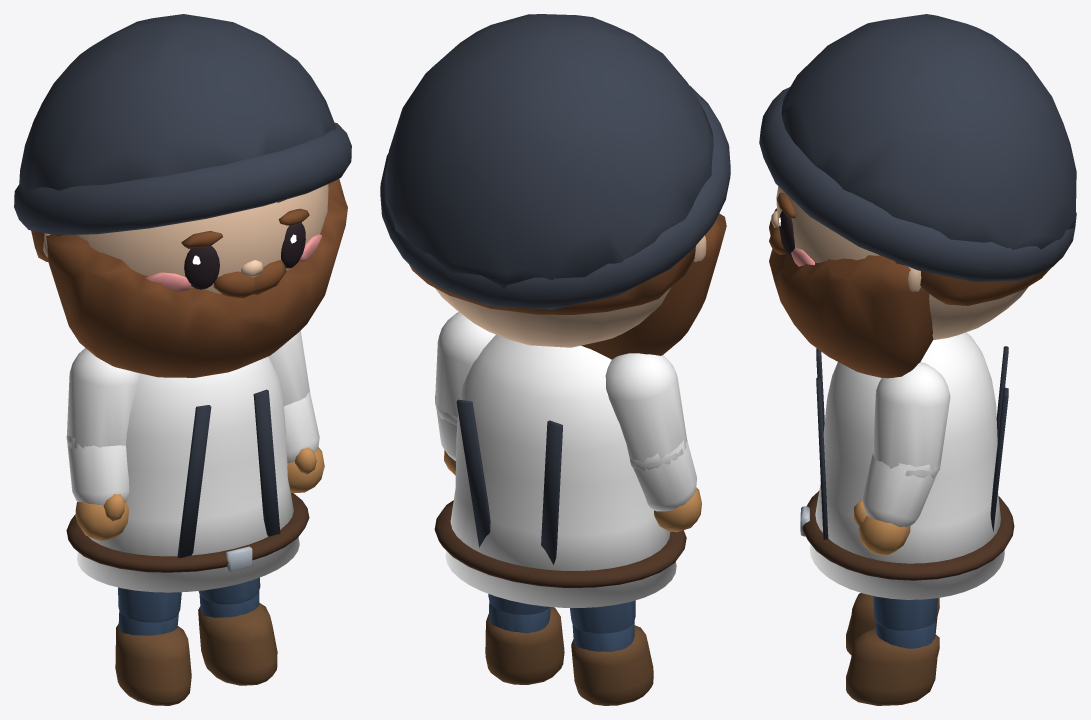
Rendered from lumberjack.glb.
3 views of the same model, side by side, from view 1: azimuth 30°, elevation 25°; view 2: azimuth 150°, elevation 25°; view 3: azimuth 270°, elevation 25° (orthographic). The views are drawn at different scales.
Parts seen in each view (by area): view 1: head_body, spine_body, knee_R_body, knee_L_body, uarm_R, farm_R, head_face_normal+face_smile, uarm_L, hand_R_body, thigh_R, farm_L, hand_L_body (+1 smaller); view 2: head_body, spine_body, uarm_R, knee_R_body, knee_L_body, uarm_L, farm_R, thigh_R, hand_R_body, farm_L, thigh_L; view 3: head_body, spine_body, uarm_L, knee_L_body, farm_L, thigh_L, hand_L_body, knee_R_body, head_face_normal+face_smile.
Boxes of the visible parts, bbox=[...] form: head_body: bbox=[14, 14, 351, 377]; spine_body: bbox=[66, 356, 309, 592]; knee_R_body: bbox=[115, 611, 191, 705]; knee_L_body: bbox=[198, 591, 277, 685]; uarm_R: bbox=[66, 348, 139, 448]; farm_R: bbox=[66, 435, 129, 505]; head_face_normal+face_smile: bbox=[184, 222, 305, 289]; uarm_L: bbox=[268, 331, 309, 406]; hand_R_body: bbox=[75, 494, 128, 540]; thigh_R: bbox=[118, 587, 181, 622]; farm_L: bbox=[284, 392, 319, 462]; hand_L_body: bbox=[287, 447, 324, 492]; head_body: bbox=[380, 14, 730, 359]; spine_body: bbox=[434, 334, 686, 607]; uarm_R: bbox=[605, 353, 687, 470]; knee_R_body: bbox=[571, 621, 653, 705]; knee_L_body: bbox=[485, 601, 564, 684]; uarm_L: bbox=[435, 312, 495, 425]; farm_R: bbox=[630, 439, 696, 511]; thigh_R: bbox=[570, 600, 635, 633]; hand_R_body: bbox=[654, 487, 701, 532]; farm_L: bbox=[435, 395, 457, 460]; thigh_L: bbox=[488, 594, 548, 614]; head_body: bbox=[759, 14, 1076, 378]; spine_body: bbox=[800, 332, 1014, 599]; uarm_L: bbox=[873, 362, 950, 478]; knee_L_body: bbox=[846, 620, 939, 705]; farm_L: bbox=[862, 453, 940, 527]; thigh_L: bbox=[873, 596, 937, 630]; hand_L_body: bbox=[854, 499, 910, 555]; knee_R_body: bbox=[846, 593, 939, 655]; head_face_normal+face_smile: bbox=[779, 211, 794, 257].
Size of what is drawn, in the model's own units: 0.7037 by 1.44 by 0.6417.
